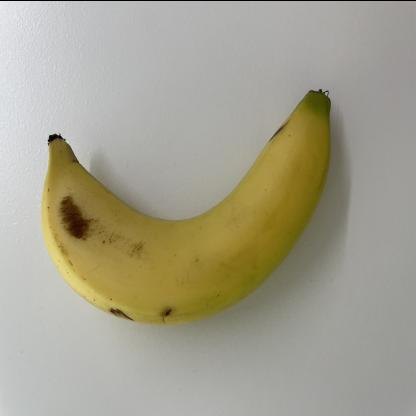banana: (35, 76, 341, 330)
